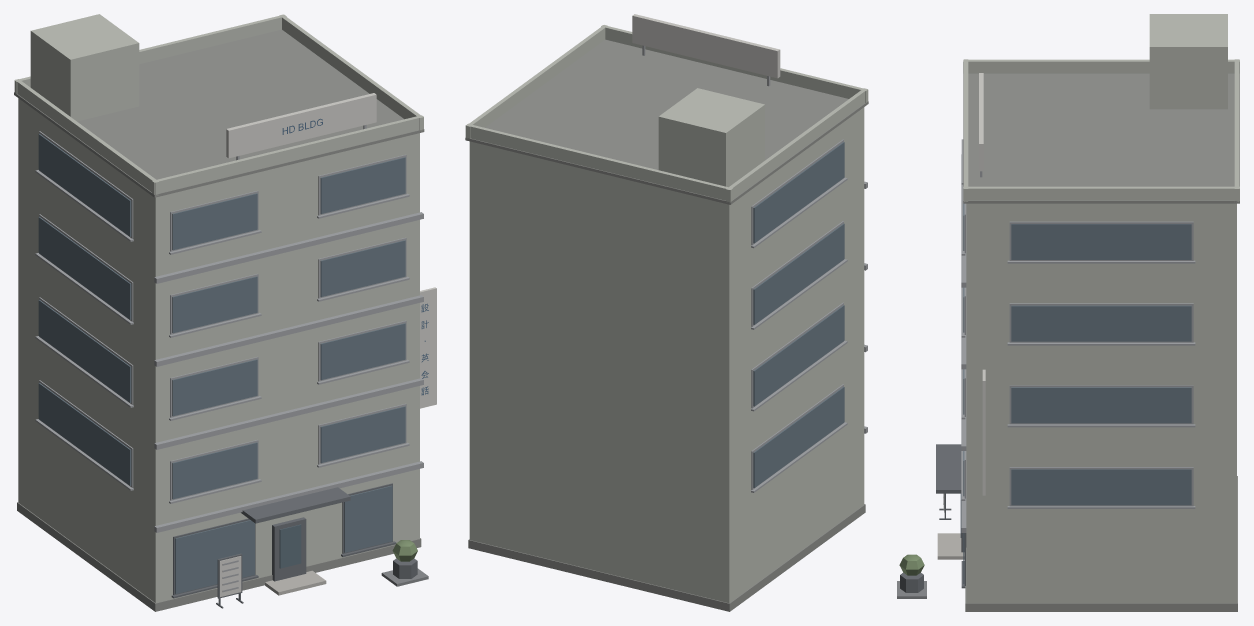
The model's file is shop_office.glb.
The picture shows the model from 3 angles, left to right: view 1: azimuth 30°, elevation 25°; view 2: azimuth 150°, elevation 25°; view 3: azimuth 270°, elevation 25°; orthographic projection.
Visible parts, largest first — view 1: Static, Windows, Sign; view 2: Static, Windows, Sign; view 3: Static, Windows, Sign.
Boxes of the visible parts, <box> form: Static: <box>14,14,428,611</box>; Windows: <box>38,133,405,499</box>; Sign: <box>226,93,436,408</box>; Static: <box>465,25,868,611</box>; Windows: <box>753,142,844,487</box>; Sign: <box>632,14,780,78</box>; Static: <box>897,14,1239,611</box>; Windows: <box>963,203,1191,505</box>; Sign: <box>979,73,985,495</box>.
Bounding box in the file's own units: 11.1 × 17.4 × 11.4.
